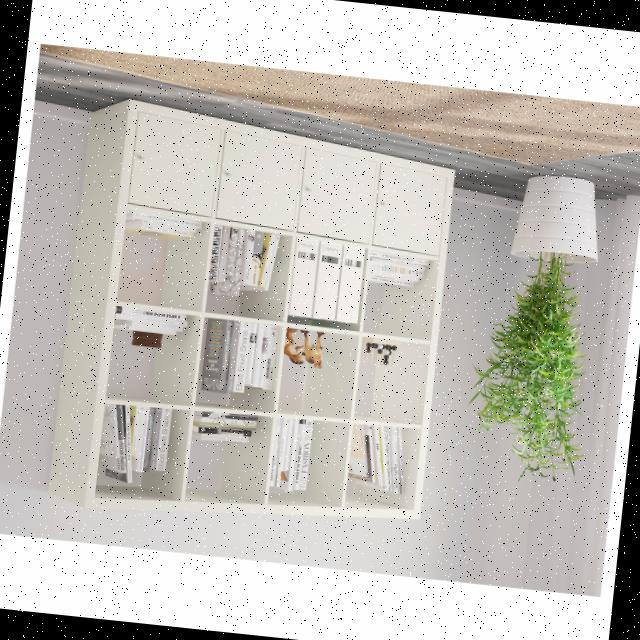Shelf: (34, 84, 472, 546)
